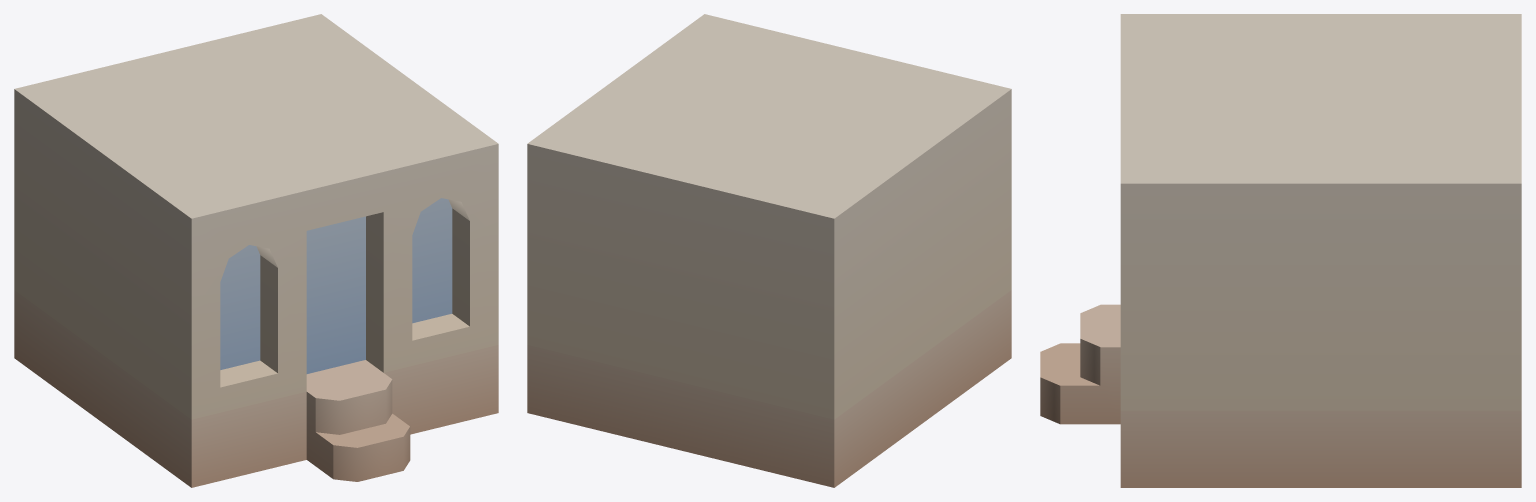
Rendered from building-steps-narrow-windows-round.glb.
3 renders of one model, left to right at view 1: azimuth 30°, elevation 25°; view 2: azimuth 150°, elevation 25°; view 3: azimuth 270°, elevation 25°, orthographic. The views are drawn at different scales.
Parts seen in each view (by area): view 1: building-steps-narrow-windows-round; view 2: building-steps-narrow-windows-round; view 3: building-steps-narrow-windows-round.
Boxes of the visible parts, x1,y1,x2,y2 form: building-steps-narrow-windows-round: (14,14,498,487); building-steps-narrow-windows-round: (527,14,1011,487); building-steps-narrow-windows-round: (1040,14,1521,487).
Size of the model in its own units: 1 by 0.8375 by 1.2.
